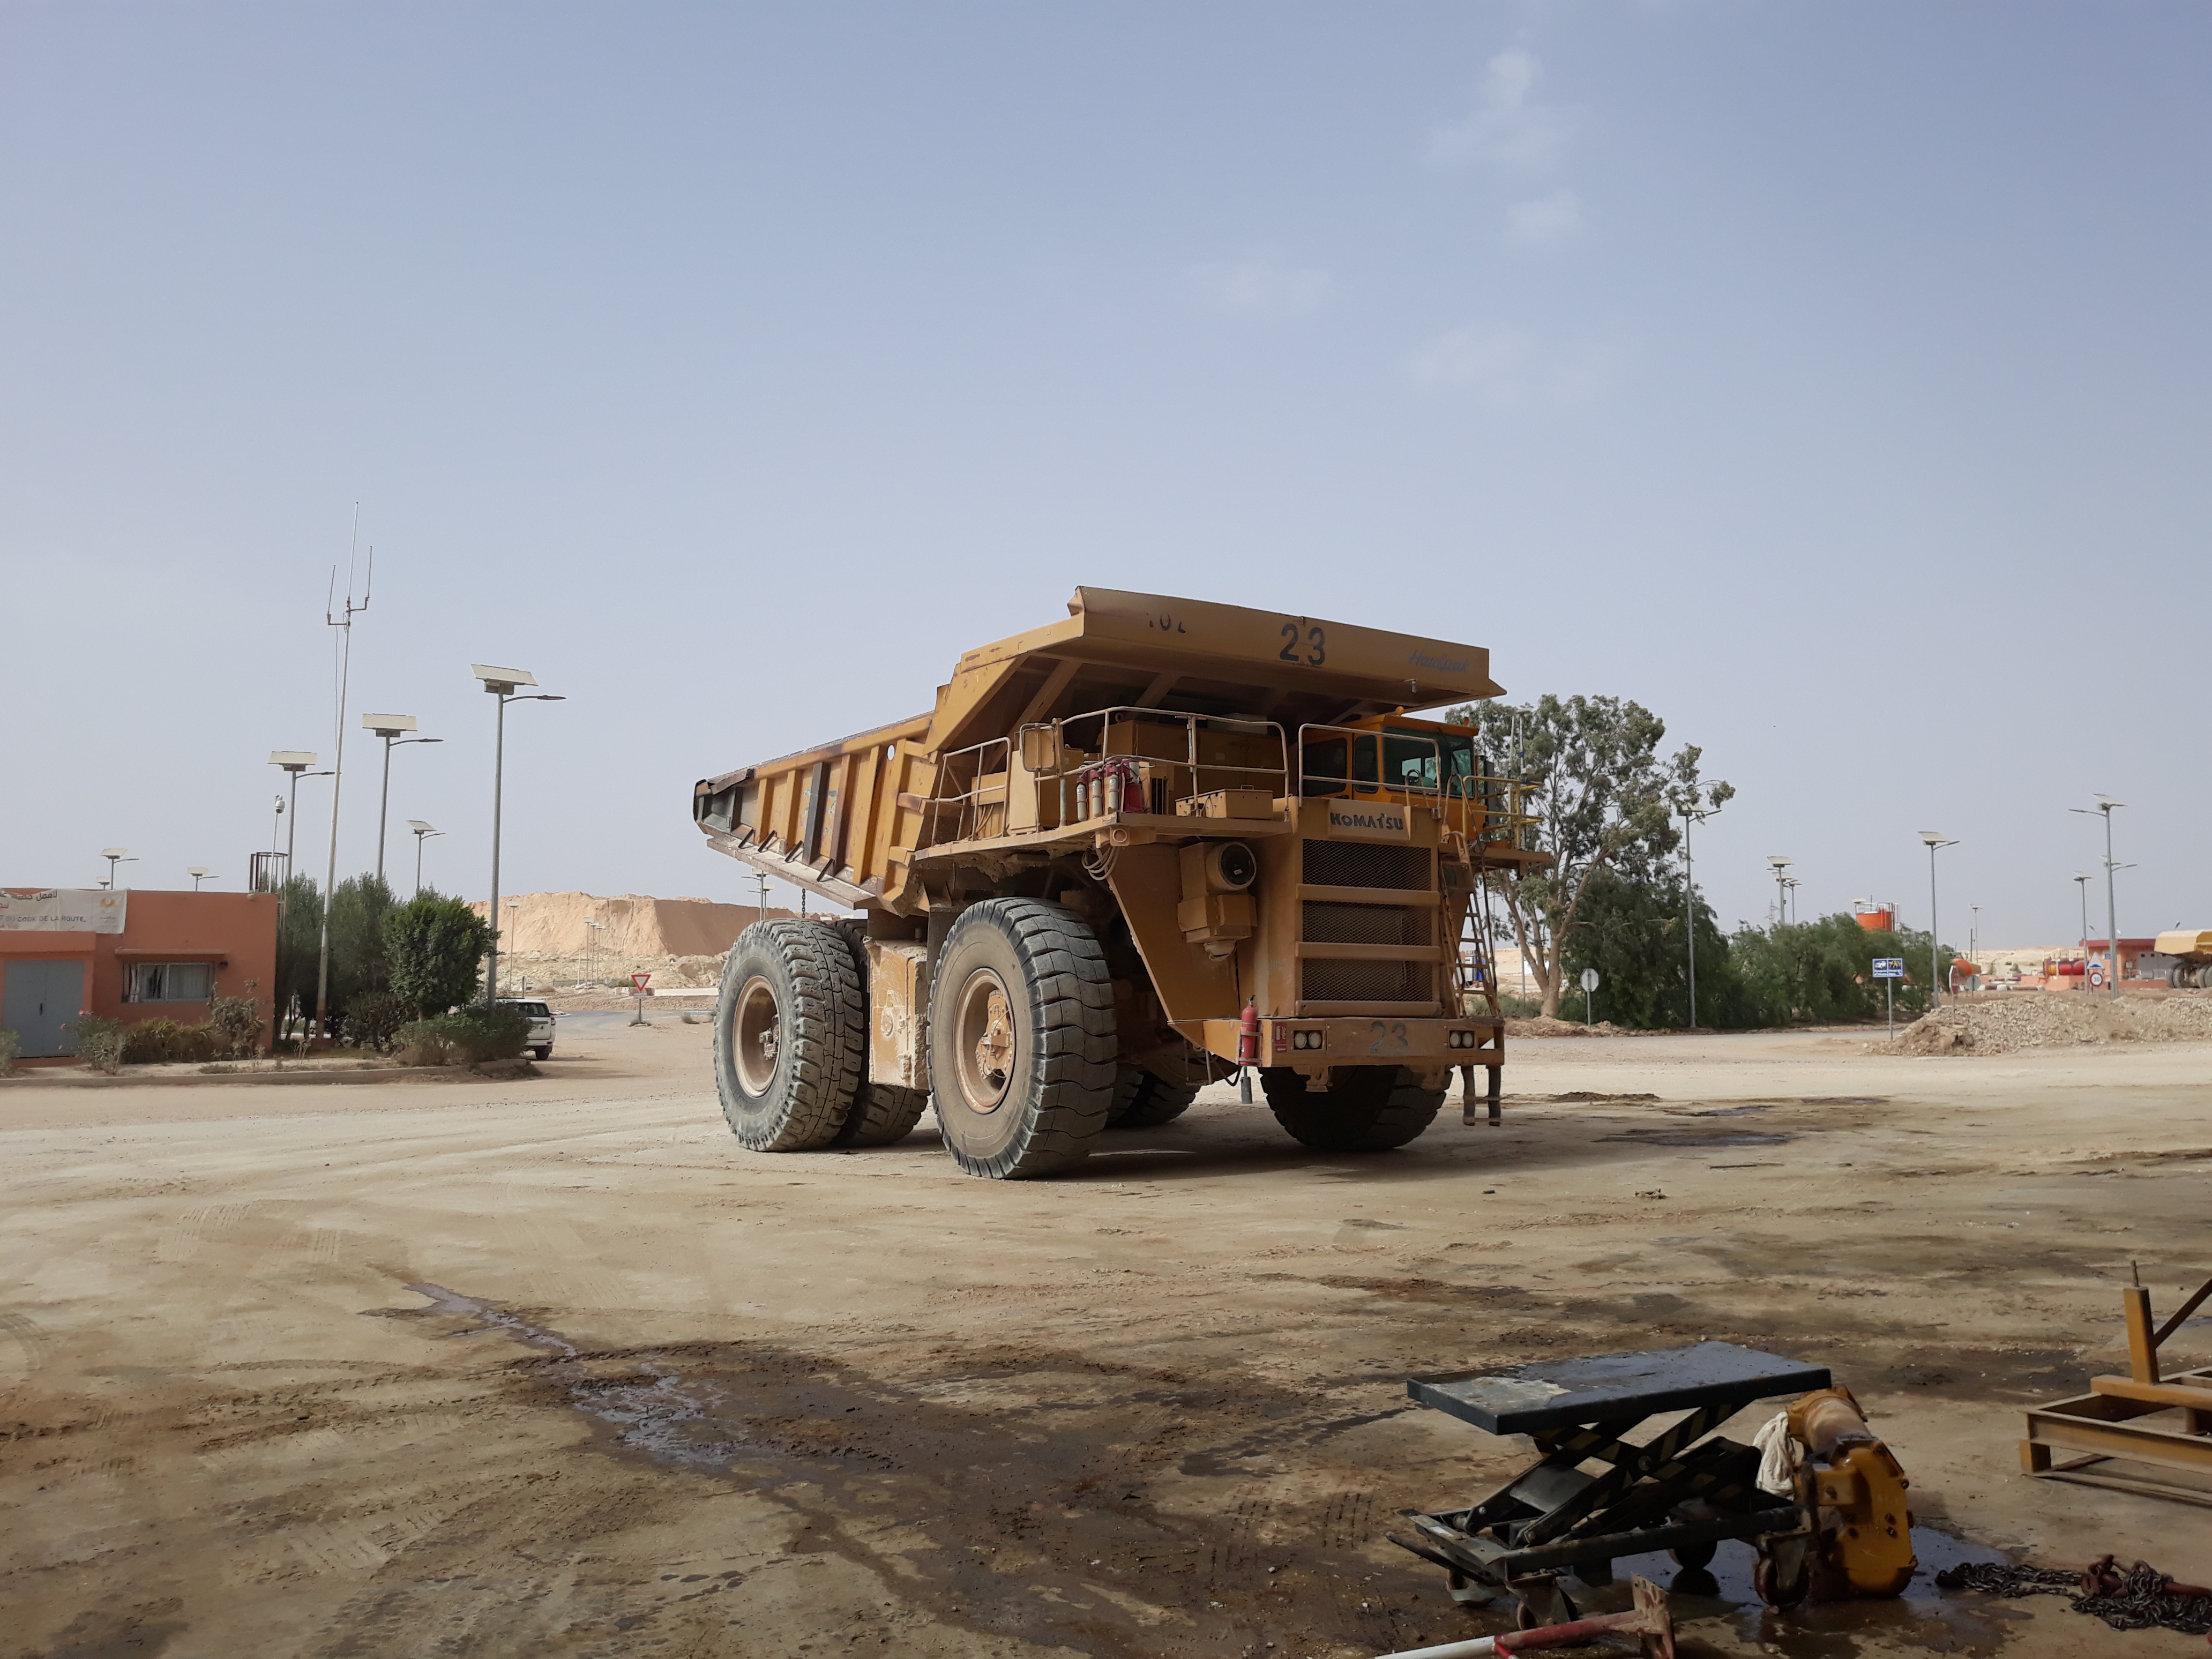camion: (667, 552, 1562, 1220)
car: (488, 985, 578, 1070)
